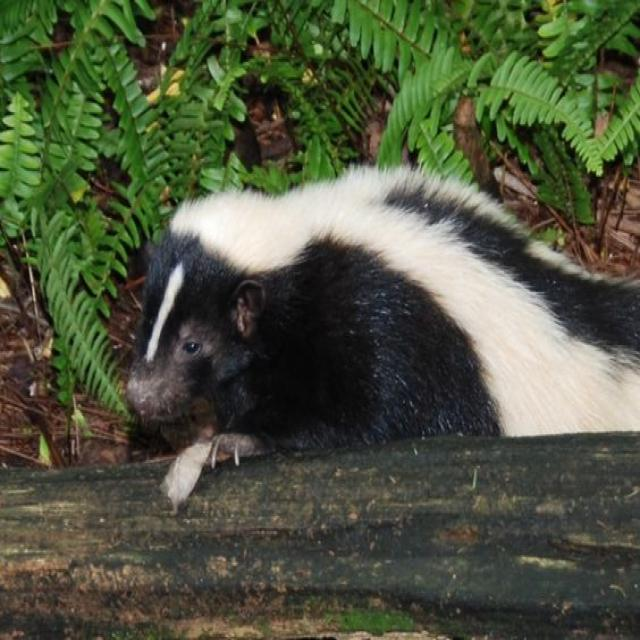Skunk: (109, 149, 640, 483)
